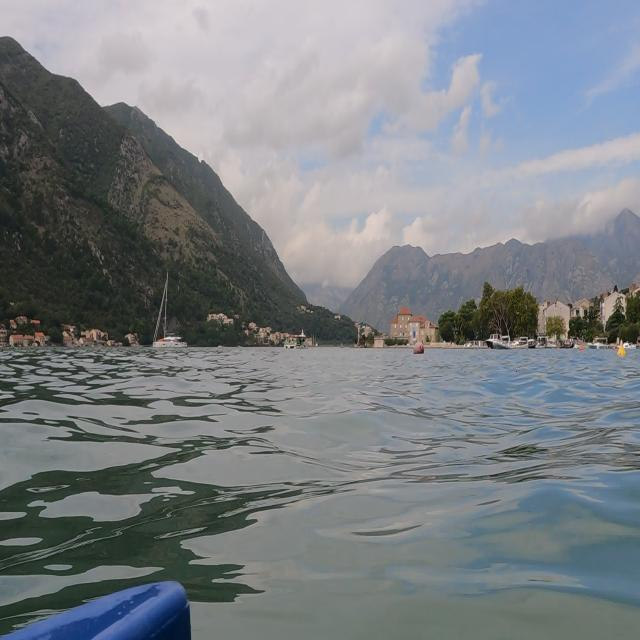boat: (150, 266, 188, 352)
buoy: (412, 335, 433, 359)
